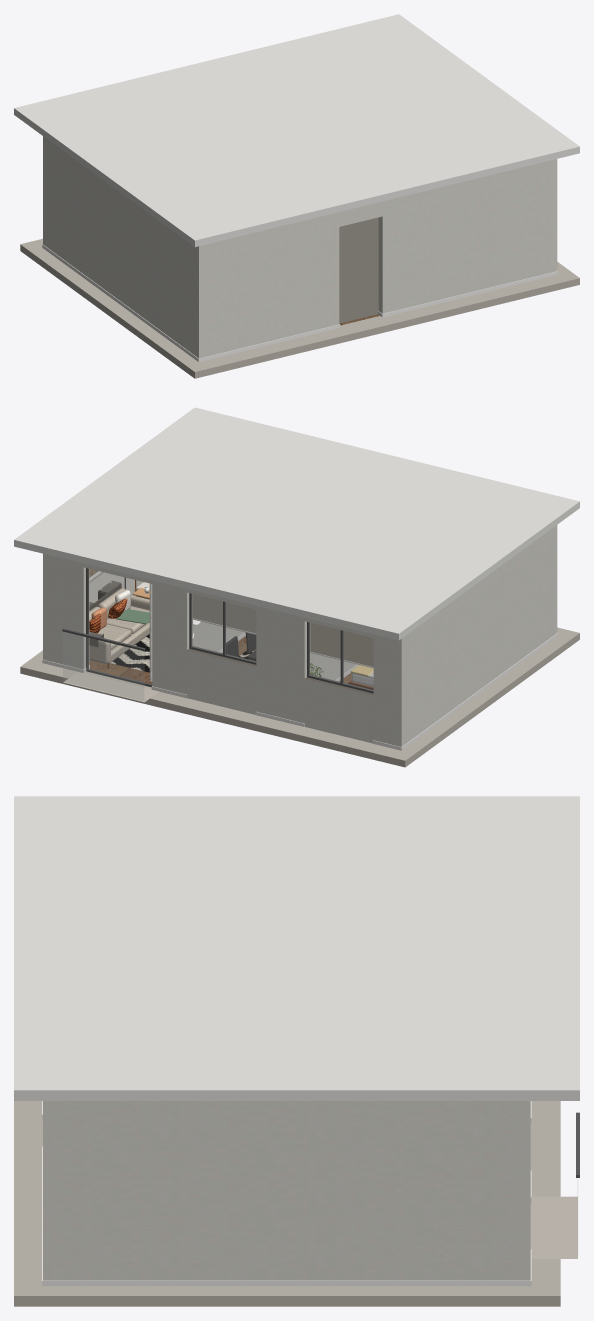
3 renders of one model, top to bottom at view 1: azimuth 30°, elevation 25°; view 2: azimuth 150°, elevation 25°; view 3: azimuth 270°, elevation 25°, orthographic. The views are drawn at different scales.
Visible parts, largest first — view 1: B112_SHELL, B112_VEG; view 2: B112_SHELL, B112_MOB; view 3: B112_SHELL.
Part boxes in pixels (x1,y1,x2,y2): B112_SHELL: (14, 14, 579, 378); B112_VEG: (339, 217, 378, 323); B112_SHELL: (14, 407, 579, 767); B112_MOB: (89, 580, 255, 661); B112_SHELL: (14, 796, 579, 1306).
Bounding box in the file's own units: 8.4 × 2.88 × 6.84.
309 materials, 53 textured.
